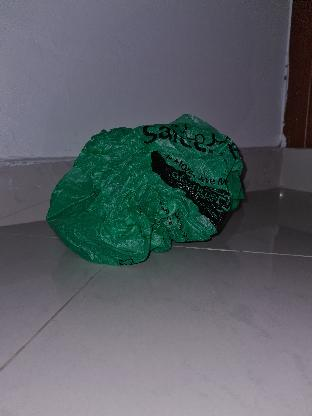Plastic Bag: (47, 112, 249, 266)
